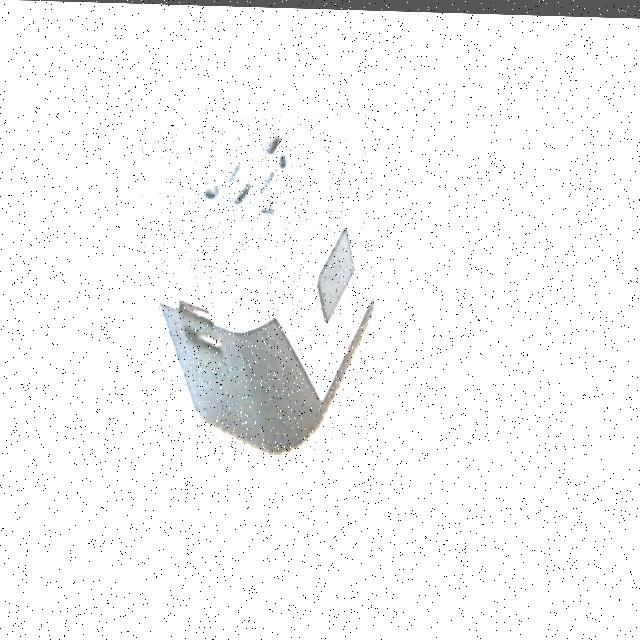adapter: (143, 106, 374, 453)
